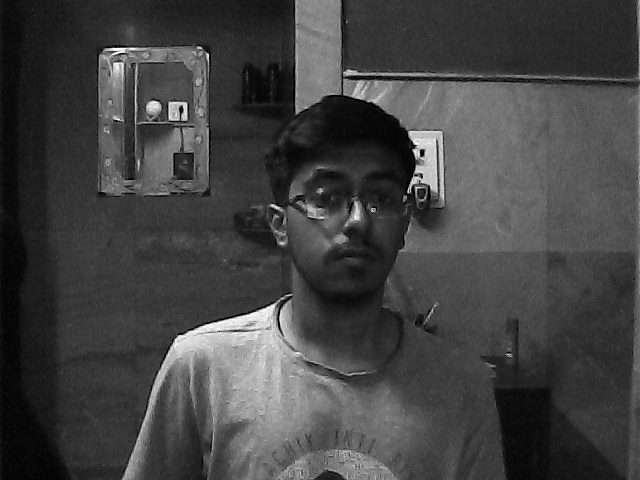nomask: (284, 142, 411, 309)
